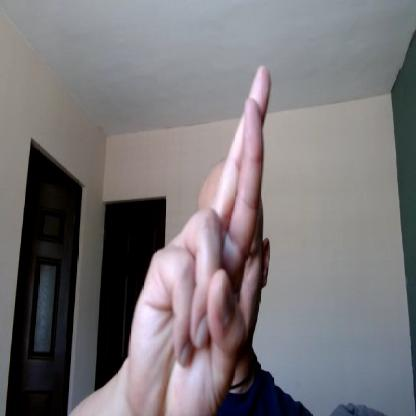R: (128, 61, 274, 415)
